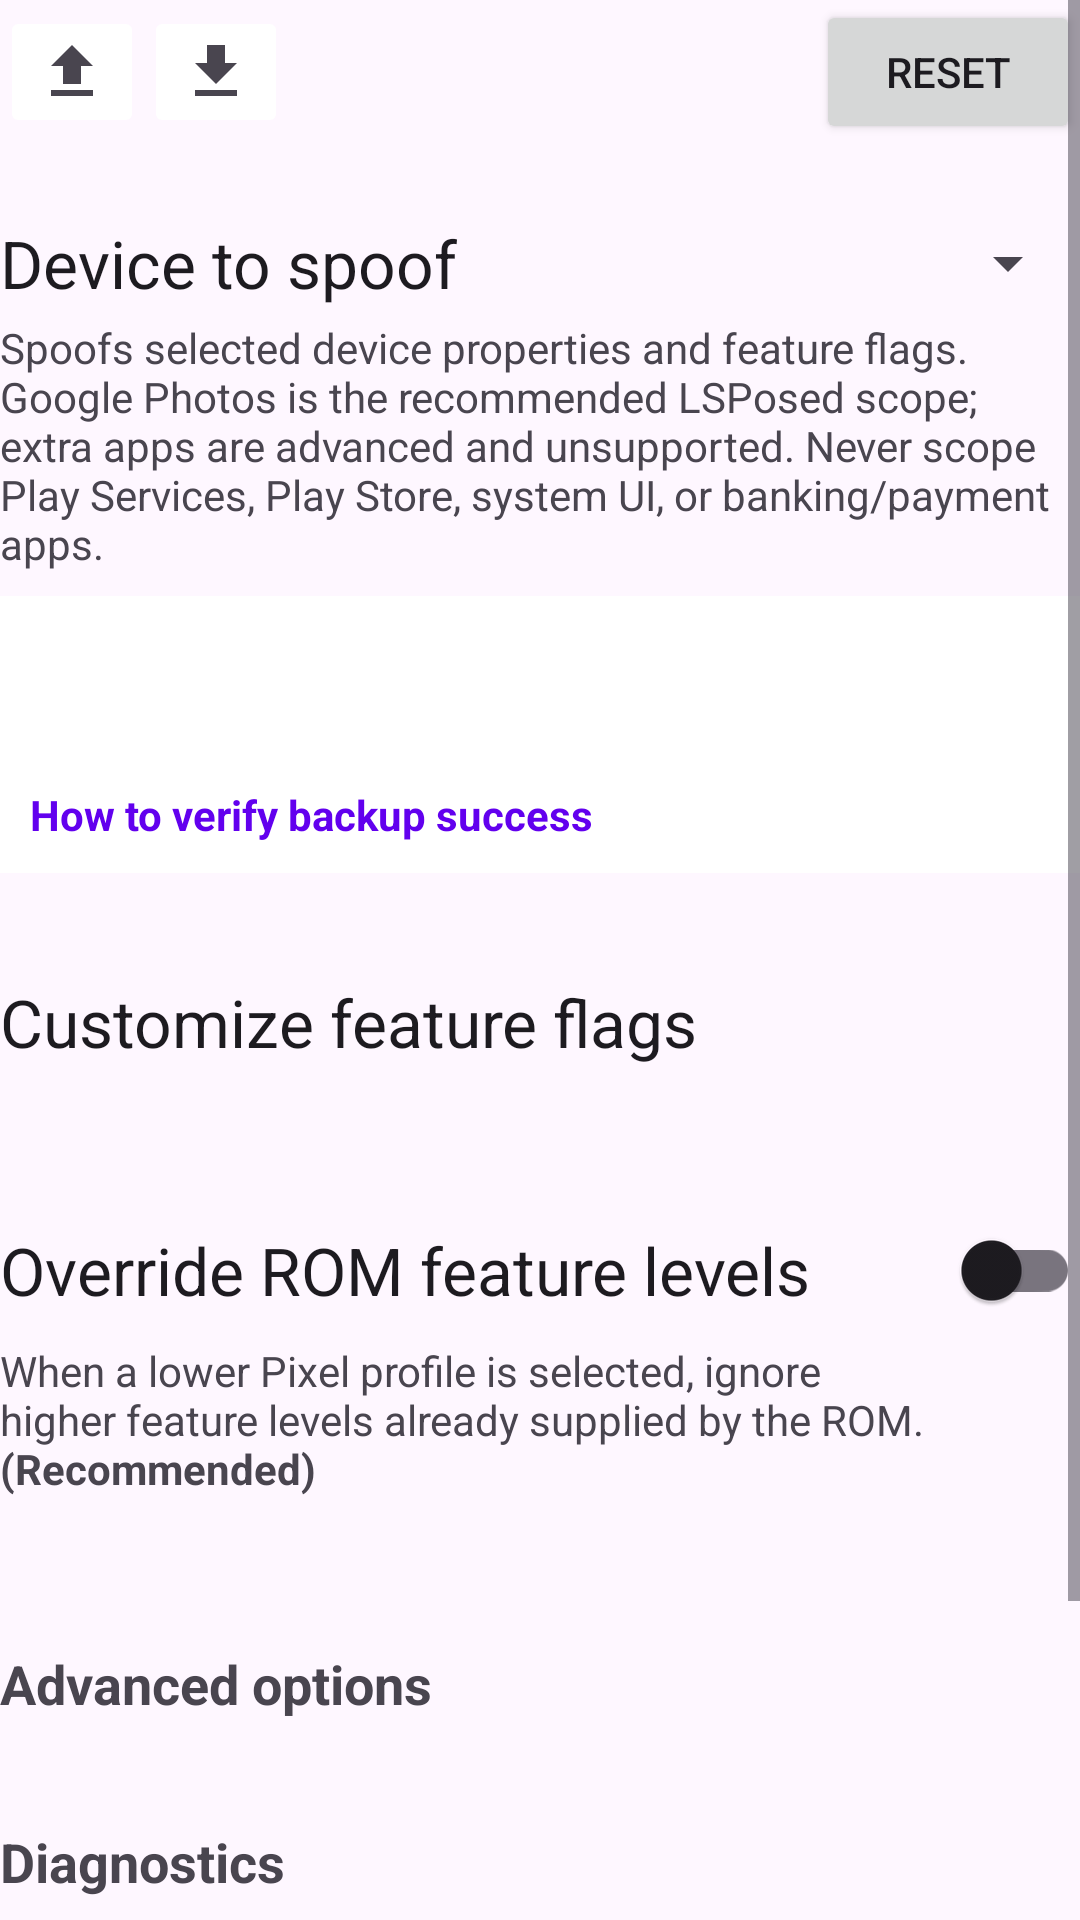

Icon click points for this 1080 x 1920 phone screenshot, format [x,y]:
Export configuration: [72,70]
Import configuration: [216,70]
